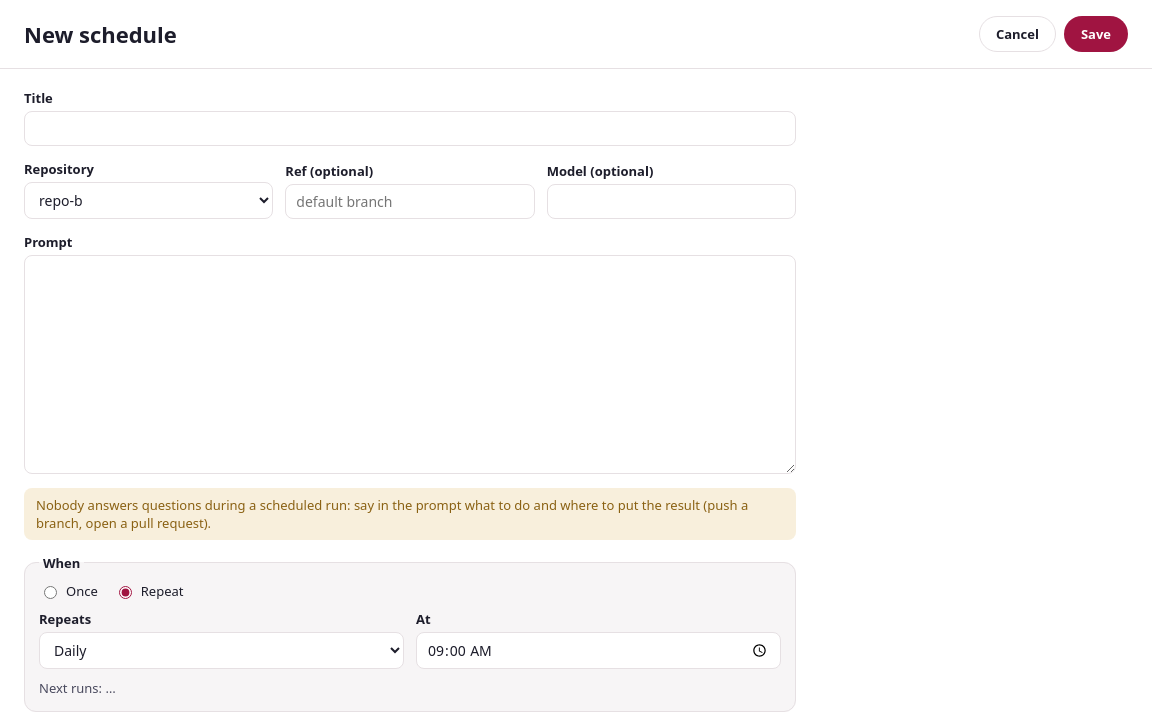
Test: ScheduleForm › leaving by another route with changes asks first
Type "x" into the field labelled "Title".
click(410, 128); type("x")  # box [24, 111, 796, 146]
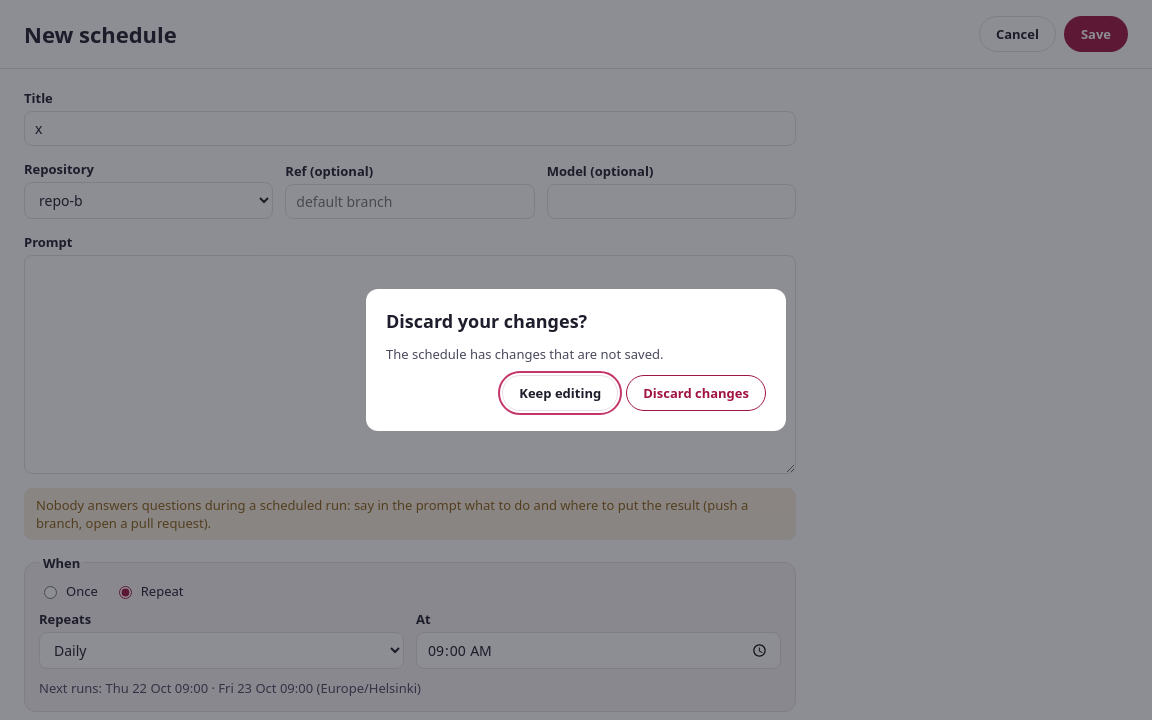
Check: the dialog "Discard your changes?" is shown, box [366, 289, 786, 431]
